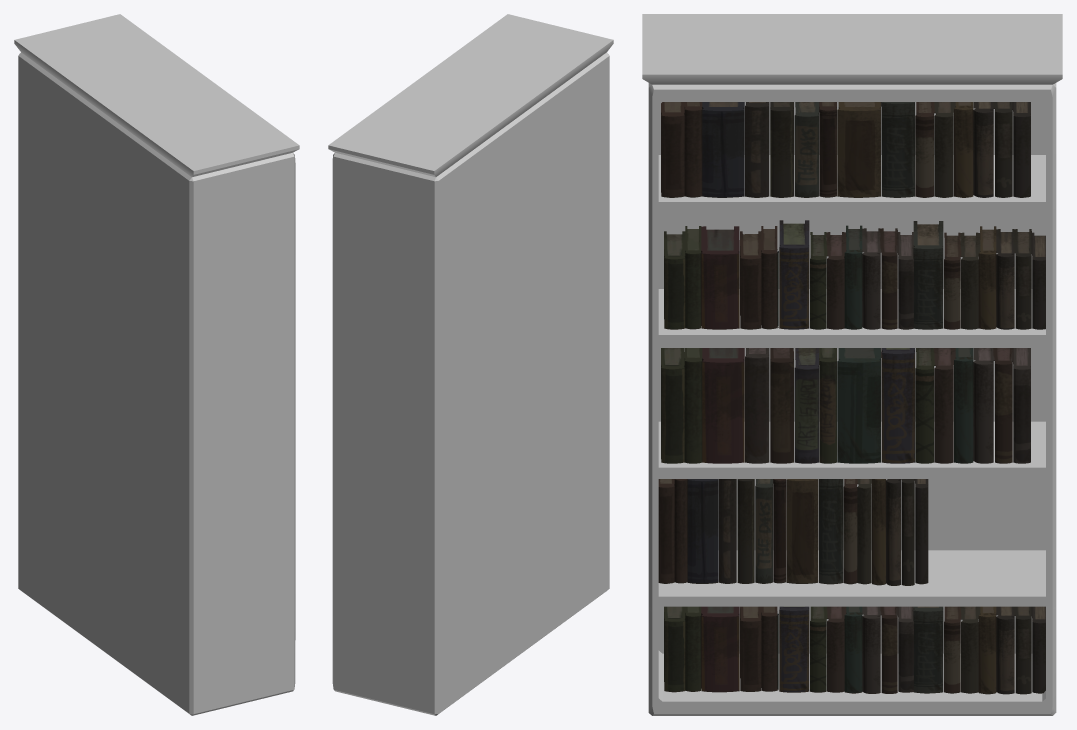
The model's file is bookshelf.fbx.
3 renders of one model, left to right at view 1: azimuth 30°, elevation 25°; view 2: azimuth 150°, elevation 25°; view 3: azimuth 270°, elevation 25°, orthographic. The views are drawn at different scales.
Parts seen in each view (by area): view 1: pCube17; view 2: pCube17; view 3: pCube17.
Boxes of the visible parts, x1,y1,x2,y2 form: pCube17: (14,14,299,715); pCube17: (328,14,613,715); pCube17: (642,14,1062,715).
Size of the model in its own units: 47.47 by 234 by 139.
